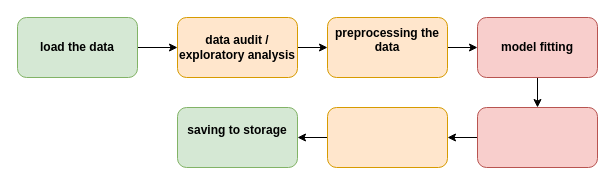
The diagram is 615 pixels wide and 185 high, and some of its shapes have lost their labels. Here are the shapes that lost their labels. From the top down, the centre of each, then its label:
(x=387, y=137): scoring the data
(x=537, y=137): model evaluation
